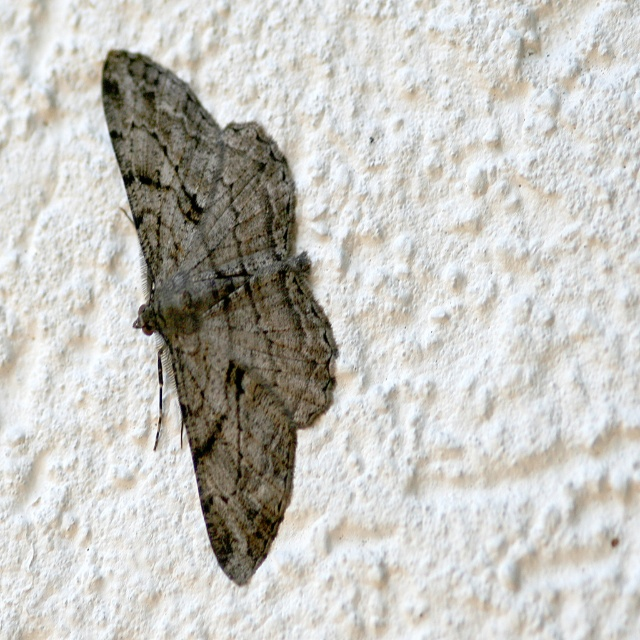Moths and butterflies: (100, 50, 341, 585)
